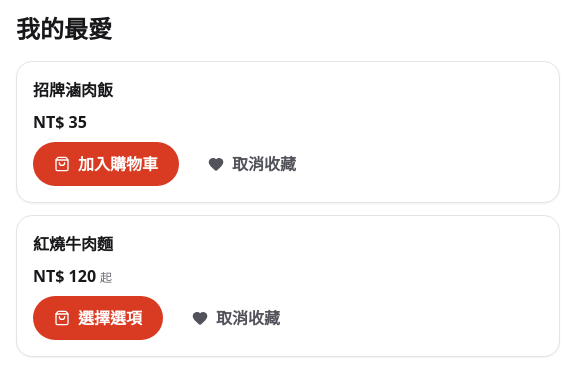
Test: FavoritesPage › 取消收藏：樂觀更新，立即從清單移除並呼叫 me.favorites.remove
Click the button with aria-label "取消收藏 招牌滷肉飯" at [252, 164], box [187,142,317,186]
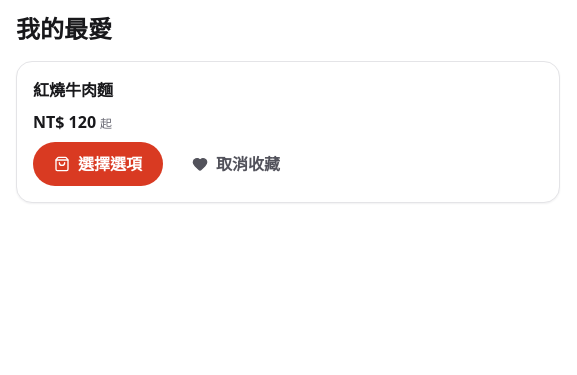
Expected: the heading "紅燒牛肉麵" is shown, [33,79,113,101]
Now the heading "招牌滷肉飯" is gone
